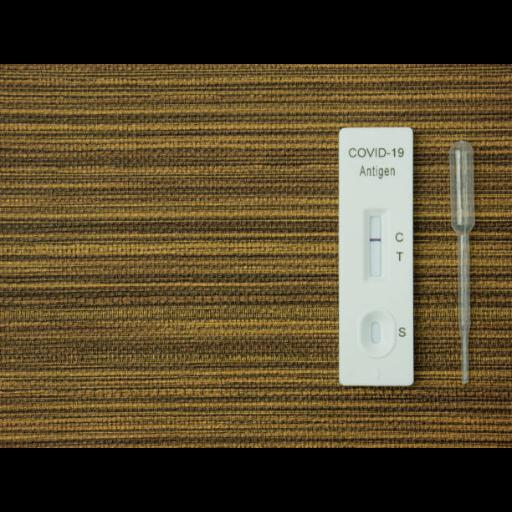Neg: (340, 126, 412, 384)
